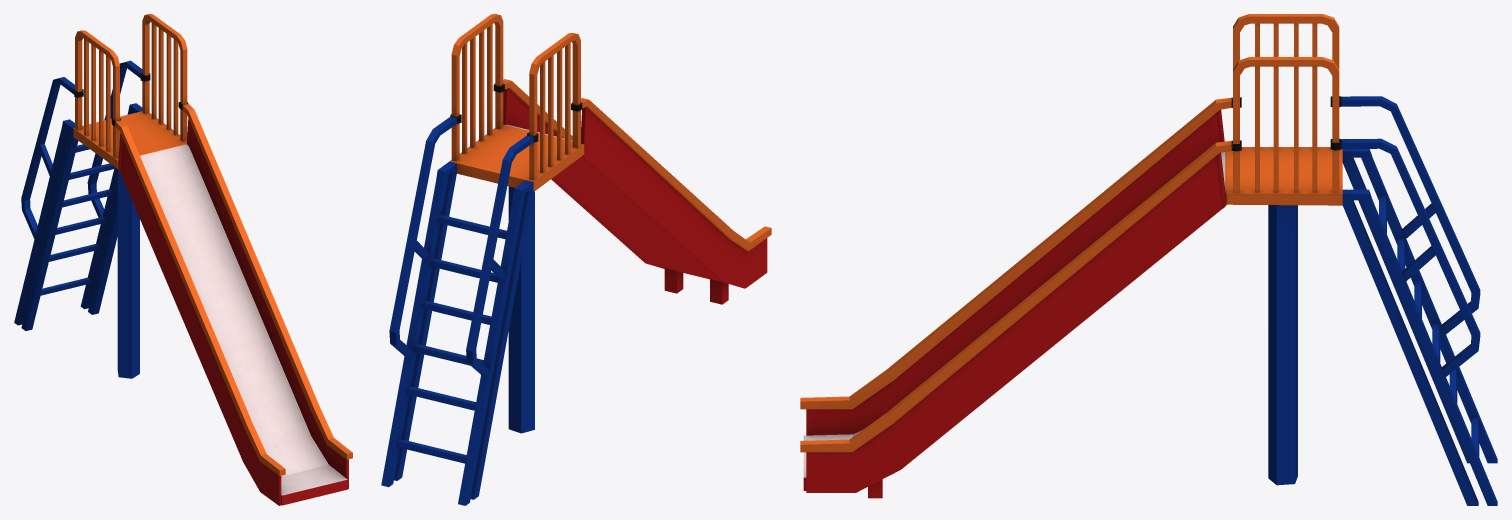
Rendered from slide.glb.
3 views of the same model, side by side, from view 1: azimuth 30°, elevation 25°; view 2: azimuth 150°, elevation 25°; view 3: azimuth 270°, elevation 25° (orthographic). The views are drawn at different scales.
Parts seen in each view (by area): view 1: Slide_Mesh; view 2: Slide_Mesh; view 3: Slide_Mesh.
Boxes of the visible parts, box(x1,y1,x2,y2) form: Slide_Mesh: box(14, 14, 352, 505); Slide_Mesh: box(381, 14, 771, 505); Slide_Mesh: box(800, 14, 1497, 505).
Size of the model in its own units: 0.5622 by 2.4 by 3.4.
Materials: 1 (1 with a texture image).
